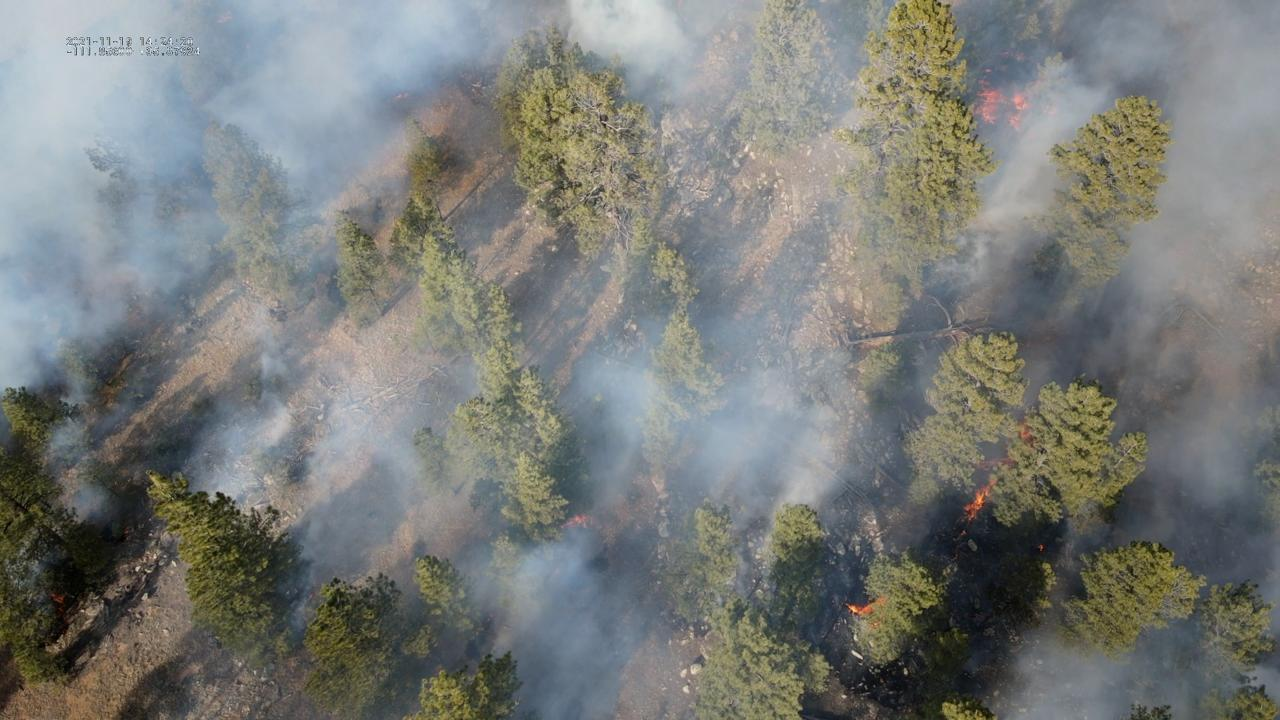fire: (972, 78, 1031, 135), (961, 475, 997, 525), (842, 597, 887, 618), (566, 513, 602, 530), (974, 457, 1017, 469), (50, 592, 68, 610), (1017, 427, 1034, 444), (958, 529, 967, 536), (1039, 543, 1044, 553), (984, 68, 993, 73)
smoke: (0, 0, 1280, 720)
